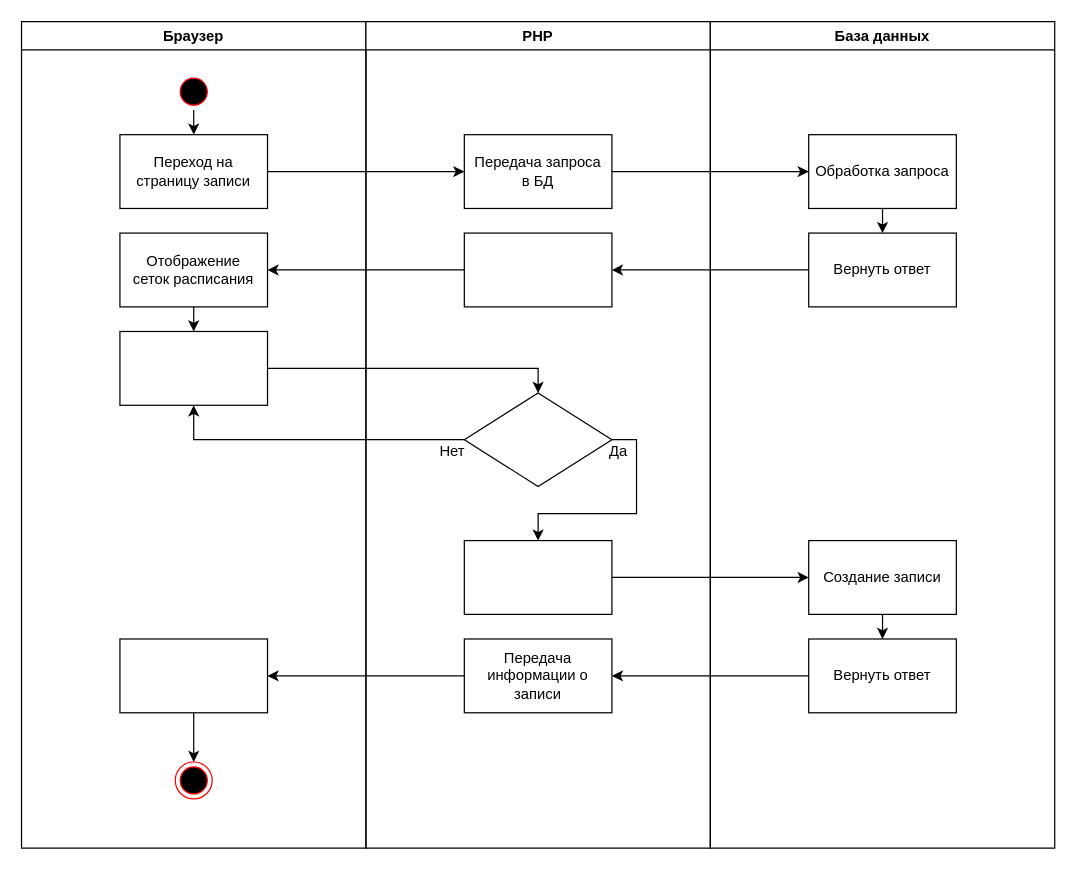
Image size: 1076x870. Some labels were removed from this diagram. Here are the shapes that lost their labels. From the top down, the centre of each, then its label:
pixel 537 269: Генерация сеток расписания
pixel 193 367: Выбор мастера и времени
pixel 537 439: Время свободно?
pixel 537 576: Отправка запроса в БД
pixel 193 675: Отображение информации о записи
